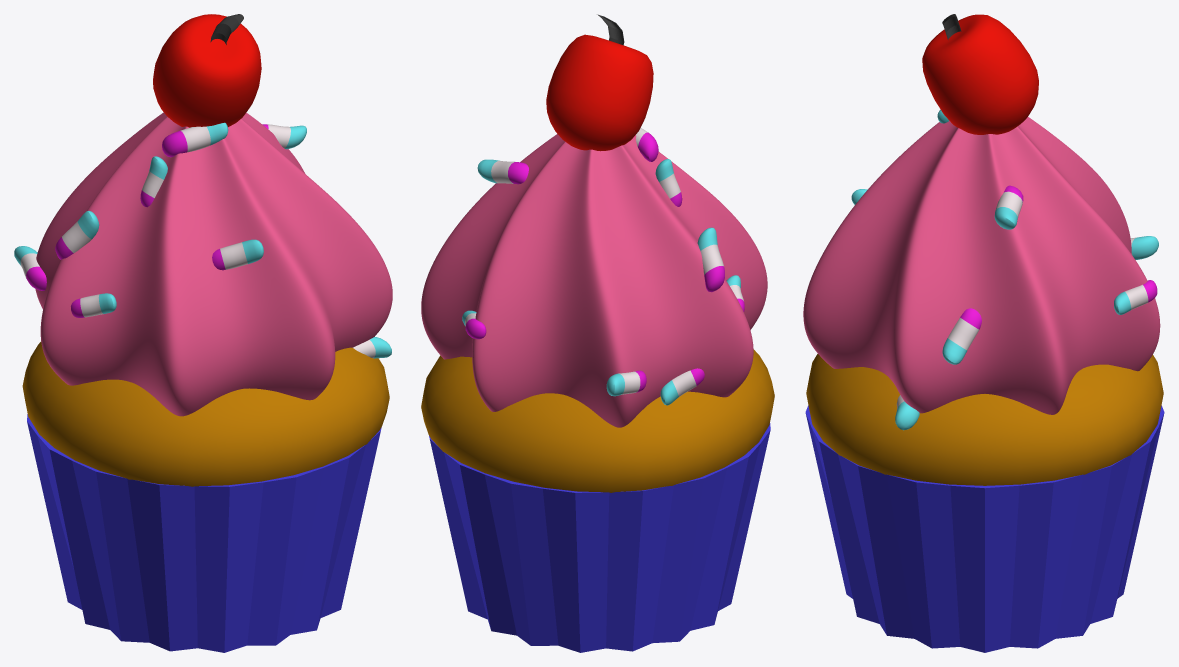
File: cake 3D.fbx
3 renders of one model, left to right at view 1: azimuth 30°, elevation 25°; view 2: azimuth 150°, elevation 25°; view 3: azimuth 270°, elevation 25°, orthographic. The views are drawn at different scales.
Parts seen in each view (by area): view 1: Star.001, Circle, Cube, Sphere, Star.001|Cube.001|Dupli|4, Star.001|Cube.001|Dupli|6, Star.001|Cube.001|Dupli|3, Star.001|Cube.001|Dupli|7, Star.001|Cube.001|Dupli|9, Star.001|Cube.001|Dupli|5, Star.001|Cube.001|Dupli|11, Star.001|Cube.001|Dupli|1; view 2: Star.001, Circle, Cube, Sphere, Star.001|Cube.001|Dupli|6, Star.001|Cube.001|Dupli|11, Star.001|Cube.001|Dupli|8, Star.001|Cube.001|Dupli|9, Star.001|Cube.001|Dupli|5, Star.001|Cube.001|Dupli|4; view 3: Star.001, Circle, Cube, Sphere, Star.001|Cube.001|Dupli|12, Star.001|Cube.001|Dupli|11, Star.001|Cube.001|Dupli|10, Star.001|Cube.001|Dupli|9, Star.001|Cube.001|Dupli|1.
Boxes of the visible parts, box(x1,y1,x2,y2) form: Star.001: box(35, 112, 392, 416); Circle: box(27, 414, 381, 652); Cube: box(22, 341, 389, 486); Sphere: box(153, 14, 261, 127); Star.001|Cube.001|Dupli|4: box(162, 122, 228, 157); Star.001|Cube.001|Dupli|6: box(55, 211, 99, 259); Star.001|Cube.001|Dupli|3: box(212, 239, 263, 270); Star.001|Cube.001|Dupli|7: box(71, 293, 116, 317); Star.001|Cube.001|Dupli|9: box(14, 246, 46, 290); Star.001|Cube.001|Dupli|5: box(140, 156, 167, 207); Star.001|Cube.001|Dupli|11: box(262, 124, 306, 149); Star.001|Cube.001|Dupli|1: box(353, 337, 391, 358); Star.001: box(421, 134, 767, 427); Circle: box(429, 423, 770, 652); Cube: box(421, 349, 774, 492); Sphere: box(546, 14, 653, 151); Star.001|Cube.001|Dupli|6: box(697, 227, 724, 292); Star.001|Cube.001|Dupli|11: box(477, 159, 528, 184); Star.001|Cube.001|Dupli|8: box(660, 368, 704, 405); Star.001|Cube.001|Dupli|9: box(606, 370, 646, 396); Star.001|Cube.001|Dupli|5: box(655, 159, 682, 206); Star.001|Cube.001|Dupli|4: box(636, 128, 658, 161); Star.001: box(803, 117, 1160, 414); Circle: box(805, 405, 1164, 652); Cube: box(806, 354, 1163, 485); Sphere: box(922, 14, 1038, 134); Star.001|Cube.001|Dupli|12: box(942, 308, 981, 364); Star.001|Cube.001|Dupli|11: box(994, 185, 1023, 229); Star.001|Cube.001|Dupli|10: box(1114, 280, 1157, 314); Star.001|Cube.001|Dupli|9: box(1130, 236, 1158, 259); Star.001|Cube.001|Dupli|1: box(895, 395, 919, 430).
Bounding box in the file's own units: 264 × 465 × 261.
